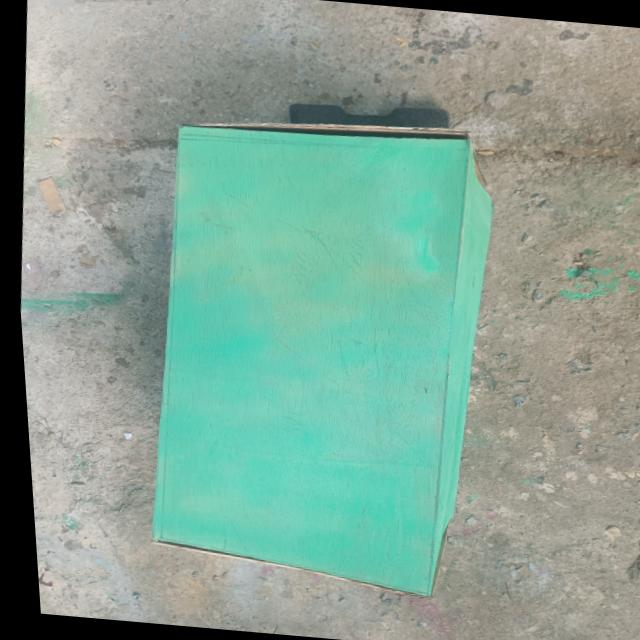green_box: (92, 92, 557, 612)
